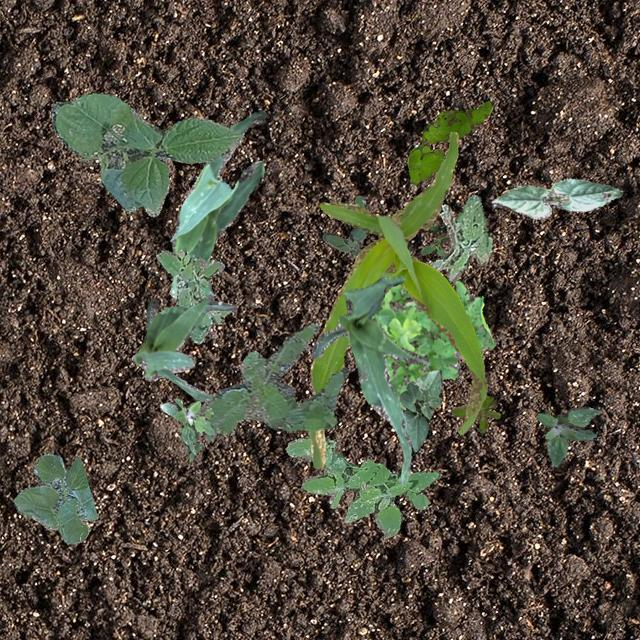crop: (308, 130, 486, 468), (311, 274, 428, 483), (50, 91, 242, 216), (168, 110, 266, 298), (130, 296, 236, 401), (12, 452, 96, 542), (491, 176, 622, 218), (398, 368, 442, 451)
weed: (198, 322, 347, 442), (371, 277, 494, 408), (284, 436, 438, 538), (406, 100, 492, 184), (156, 248, 230, 342), (428, 194, 491, 280), (536, 406, 600, 466), (158, 398, 214, 460), (322, 194, 366, 256), (420, 210, 462, 256), (450, 396, 500, 432)
